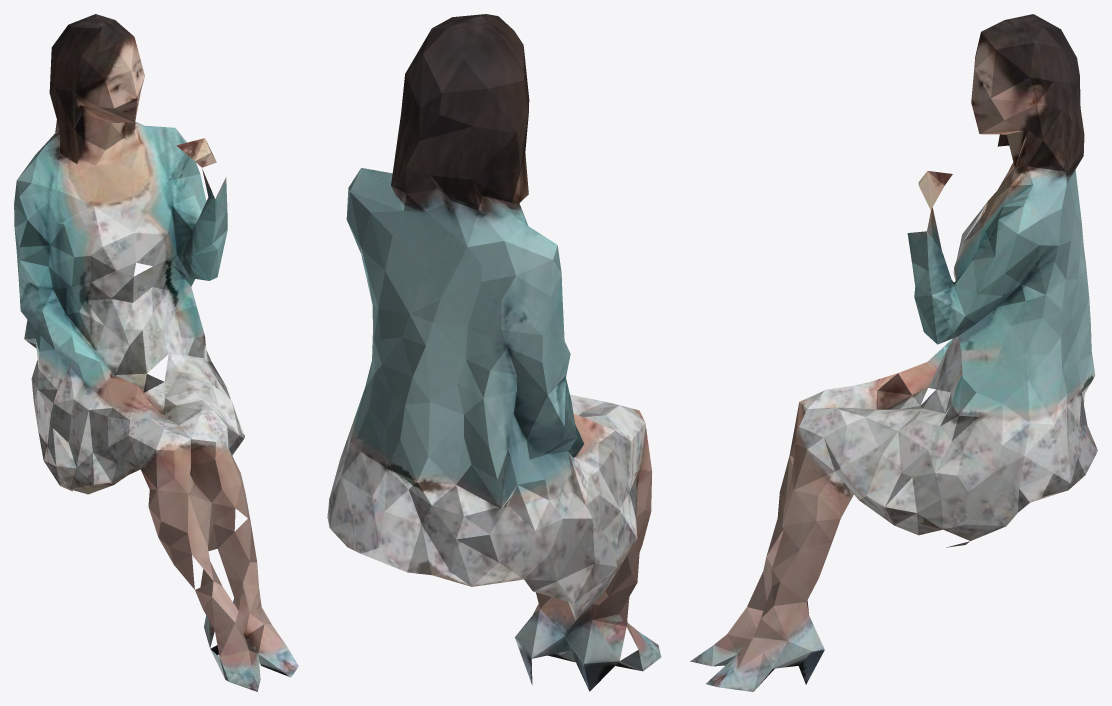
3 renders of one model, left to right at view 1: azimuth 30°, elevation 25°; view 2: azimuth 150°, elevation 25°; view 3: azimuth 270°, elevation 25°, orthographic. The views are drawn at different scales.
Size of the model in its own units: 419 by 1315 by 766.
1 material, 1 textured.
